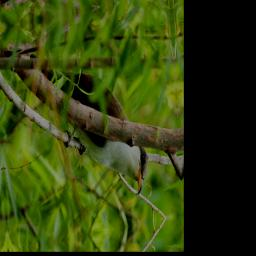Cuckoo: (29, 18, 151, 221)
